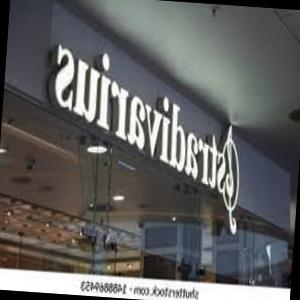stradivarius: (0, 5, 294, 252)
